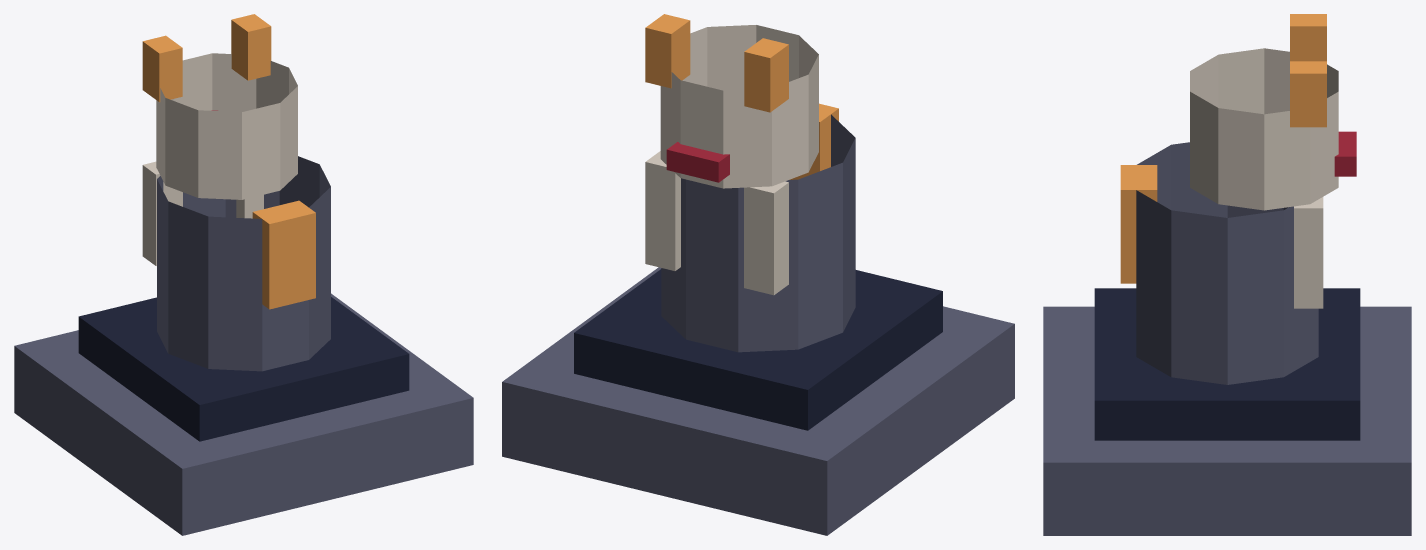
Rendered from dojo_komainu_plinth.obj.
3 renders of one model, left to right at view 1: azimuth 30°, elevation 25°; view 2: azimuth 150°, elevation 25°; view 3: azimuth 270°, elevation 25°, orthographic. The views are drawn at different scales.
Visible parts, largest first — view 1: dojo_komainu_plinth; view 2: dojo_komainu_plinth; view 3: dojo_komainu_plinth.
Part boxes in pixels (<box>): dojo_komainu_plinth: <box>14,14,473,535</box>; dojo_komainu_plinth: <box>502,14,1014,535</box>; dojo_komainu_plinth: <box>1043,14,1411,535</box>.
Size of the model in its own units: 2.5 by 3.1 by 2.5.
